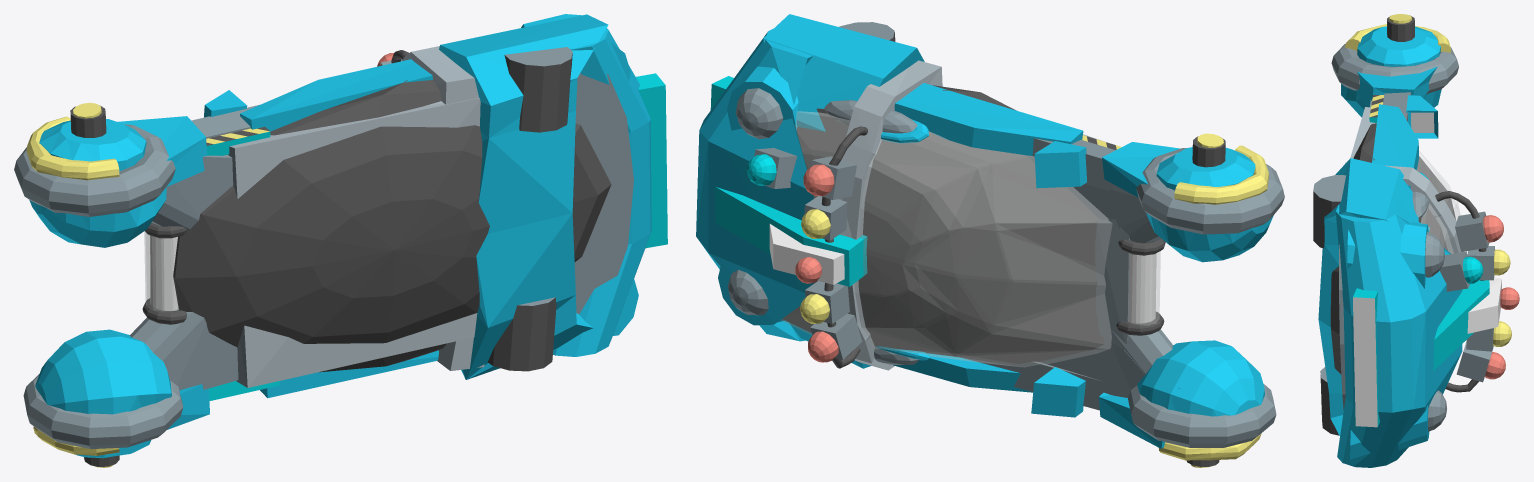
The model's file is hovercar.glb.
The picture shows the model from 3 angles, left to right: view 1: azimuth 30°, elevation 25°; view 2: azimuth 150°, elevation 25°; view 3: azimuth 270°, elevation 25°; orthographic projection. The views are drawn at different scales.
Parts seen in each view (by area): view 1: mesh7044159; view 2: mesh7044159; view 3: mesh7044159.
Boxes of the visible parts, x1=… form: mesh7044159: x1=14, y1=14, x2=667, y2=467; mesh7044159: x1=696, y1=14, x2=1284, y2=467; mesh7044159: x1=1313, y1=14, x2=1519, y2=467.
Bounding box in the file's own units: 0.4946 × 0.2702 × 0.1802.
